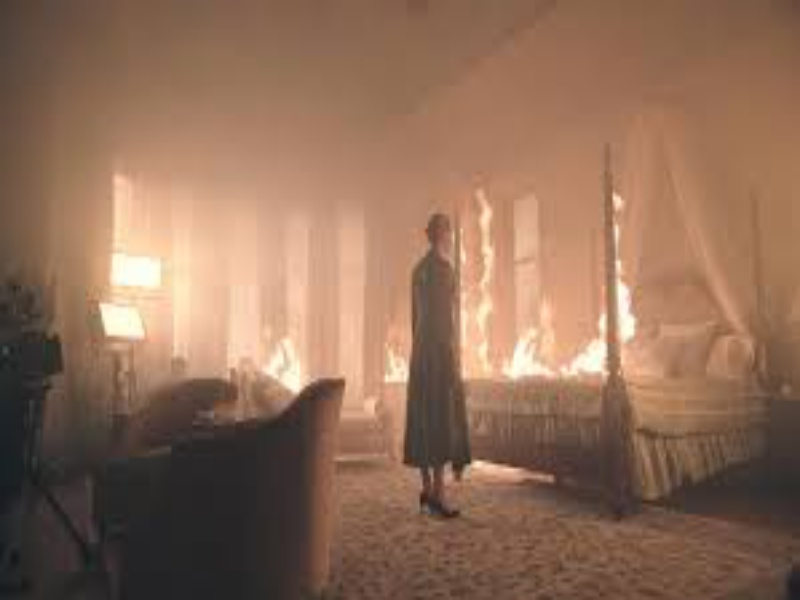fire: (458, 176, 497, 379), (503, 325, 609, 380), (617, 195, 639, 351), (268, 337, 307, 388), (384, 340, 412, 383)
